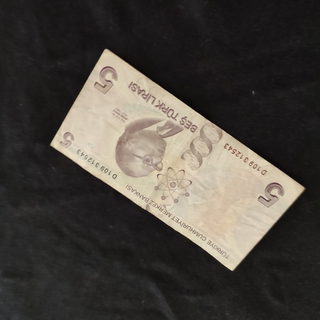5TLBack: (47, 46, 307, 274)
